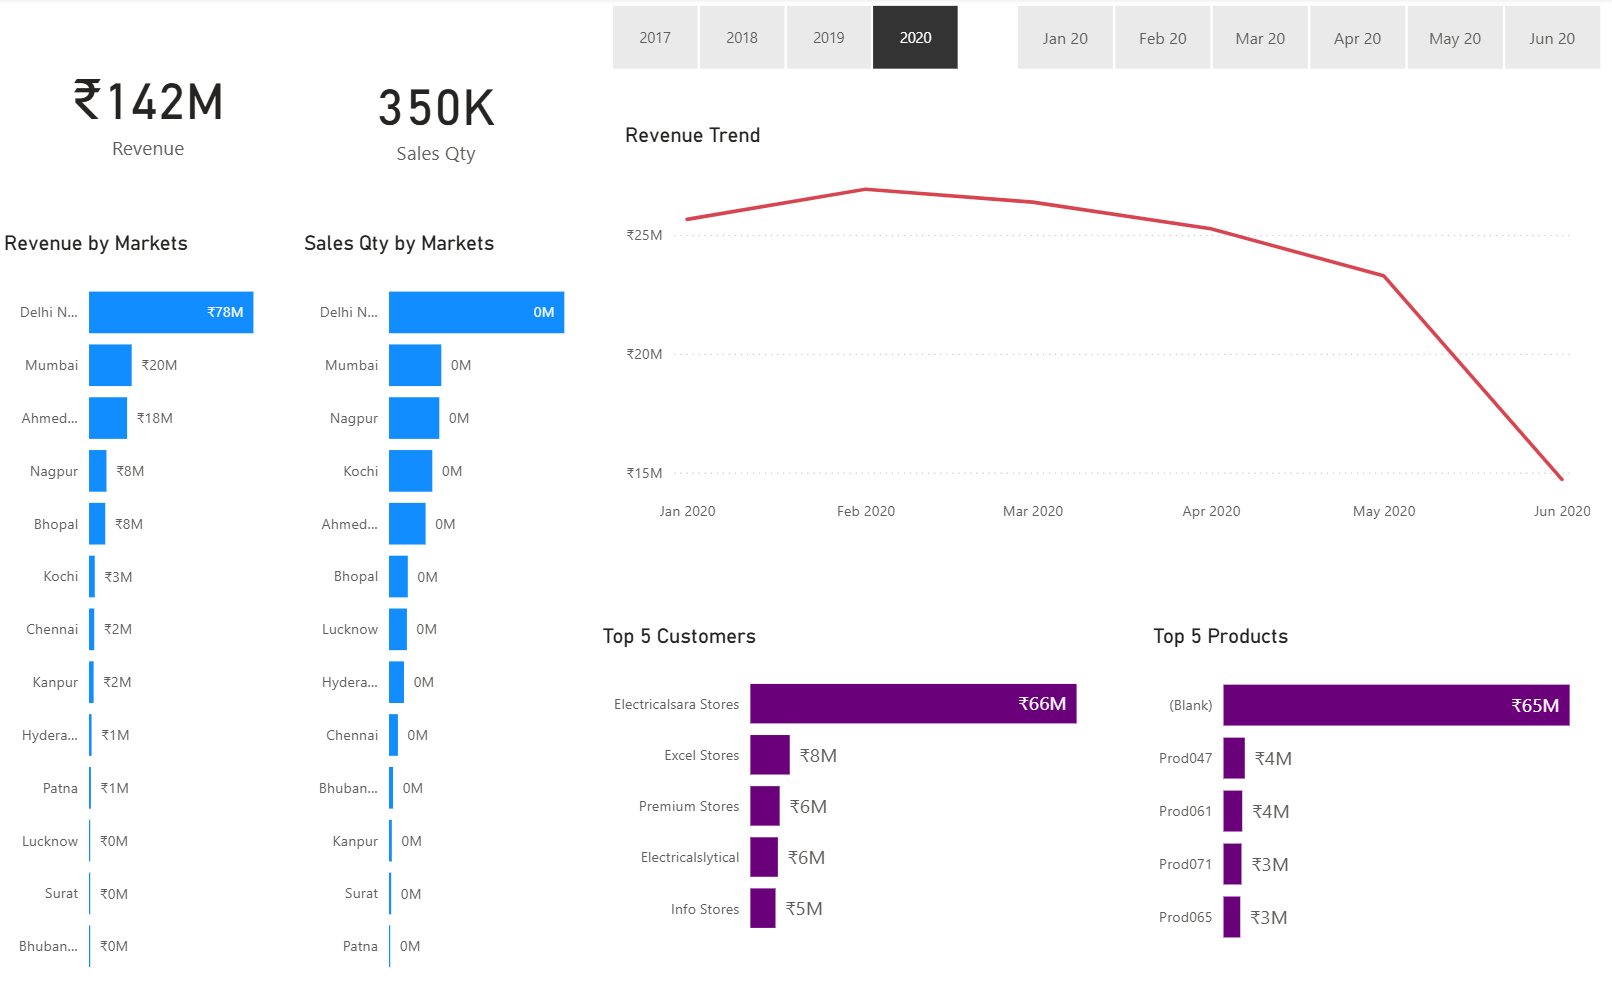

The page's visual inventory and layout, read from the dashboard file:
{"tool":"powerbi","page":{"name":"Key Insights","canvas":[1350,850],"ordinal":0},"visuals":[{"type":"card","fields":{"Values":["BaseMeasures (2).Revenue"]},"box":[0,0,247.9,184.6],"z":0},{"type":"card","fields":{"Values":["BaseMeasures (2).Sales Qty"]},"box":[247.9,0,227.9,193.1],"z":1000},{"type":"barChart","title":"Revenue by Markets","fields":{"Y":["BaseMeasures (2).Revenue"],"Category":["sales markets.markets_name"]},"box":[0,193.1,247.9,631.9],"z":2000},{"type":"barChart","title":"Sales Qty by Markets","fields":{"Y":["BaseMeasures (2).Sales Qty"],"Category":["sales markets.markets_name"]},"box":[247.9,193.1,247.9,631.9],"z":3000},{"type":"slicer","fields":{"Values":["sales date.year"]},"box":[483.2,0,335.5,66.5],"z":4000},{"type":"slicer","fields":{"Values":["sales date.cy_date"]},"box":[818.6,0,531.7,66.5],"z":5000},{"type":"barChart","title":"Top 5 Customers","fields":{"Y":["BaseMeasures (2).Revenue"],"Category":["sales customers.custmer_name"]},"box":[495.8,519,446.2,274.3],"z":6000},{"type":"barChart","title":"Top 5 Products","fields":{"Y":["BaseMeasures (2).Revenue"],"Category":["sales products.product_code"]},"box":[950.7,519.2,399.5,282.8],"z":7000},{"type":"lineChart","title":"Revenue Trend","fields":{"Y":["BaseMeasures (2).Revenue"],"Category":["sales date.cy_date"]},"box":[513.8,104.4,809.1,338.6],"z":8000}]}

Visuals, with their boxes in screenshot pixels (x1, y1, x2, y2), scaled from the page's 1350x850 canvas onto the 1612x997 screenshot:
card - BaseMeasures (2).Revenue: [0,0,296,217]
card - BaseMeasures (2).Sales Qty: [296,0,568,226]
"Revenue by Markets" barChart: [0,226,296,968]
"Sales Qty by Markets" barChart: [296,226,592,968]
slicer - sales date.year: [577,0,978,78]
slicer - sales date.cy_date: [977,0,1611,78]
"Top 5 Customers" barChart: [592,609,1125,930]
"Top 5 Products" barChart: [1135,609,1611,941]
"Revenue Trend" lineChart: [614,122,1580,520]
